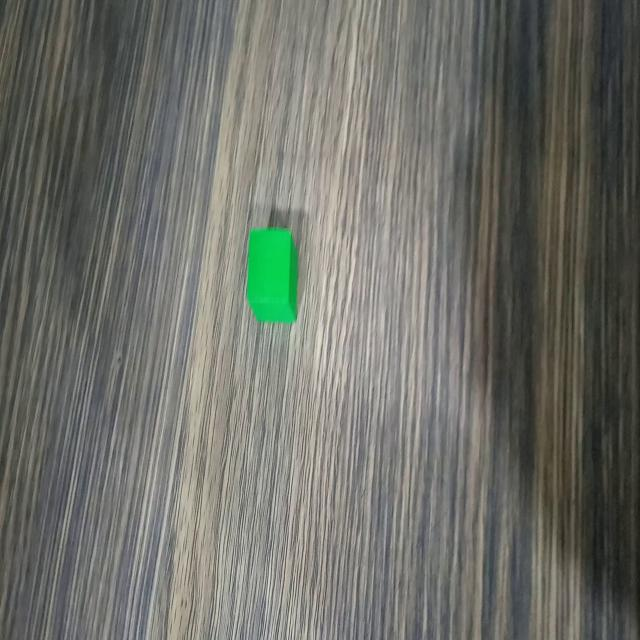cube: (243, 225, 303, 328)
